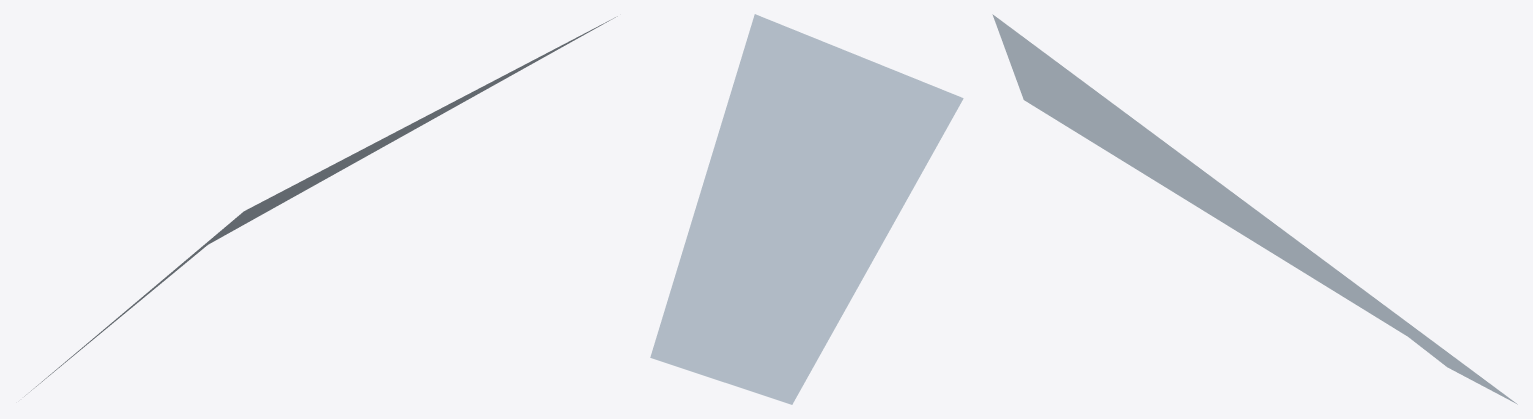
The model's file is scapholunate-interosseous-ligament-r.glb.
3 renders of one model, left to right at view 1: azimuth 30°, elevation 25°; view 2: azimuth 150°, elevation 25°; view 3: azimuth 270°, elevation 25°, orthographic. The views are drawn at different scales.
Parts seen in each view (by area): view 1: Scapholunate interosseous ligament.r; view 2: Scapholunate interosseous ligament.r; view 3: Scapholunate interosseous ligament.r.
Part boxes in pixels (box(x1,y1,x2,y2)): Scapholunate interosseous ligament.r: box(24, 16, 617, 396); Scapholunate interosseous ligament.r: box(650, 14, 963, 404); Scapholunate interosseous ligament.r: box(992, 14, 1517, 404).
Size of the model in its own units: 0.00198 by 0.0024 by 0.00286.
